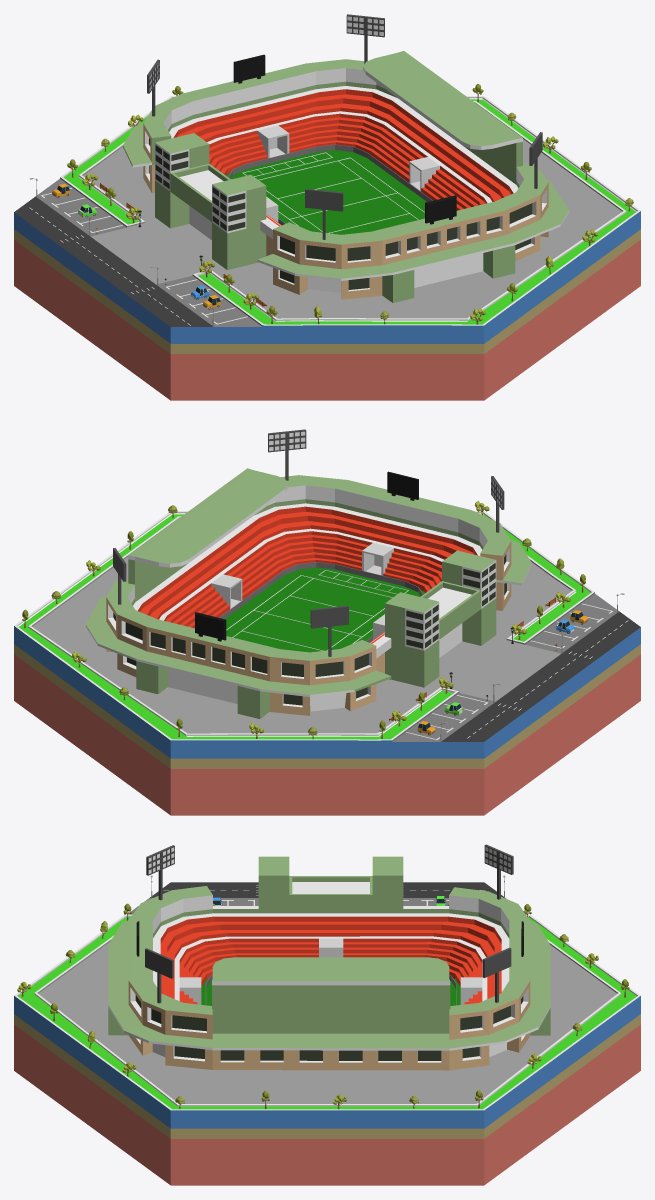
The model's file is Stadium Base.fbx.
3 views of the same model, one above another, from view 1: azimuth 30°, elevation 25°; view 2: azimuth 150°, elevation 25°; view 3: azimuth 270°, elevation 25° (orthographic).
Visible parts, largest first — view 1: Base; view 2: Base; view 3: Base.
Part boxes in pixels (bbox=[...]): Base: bbox=[14, 14, 640, 400]; Base: bbox=[14, 429, 640, 815]; Base: bbox=[14, 844, 640, 1185].
Bounding box in the file's own units: 9350 × 3362 × 10794.
